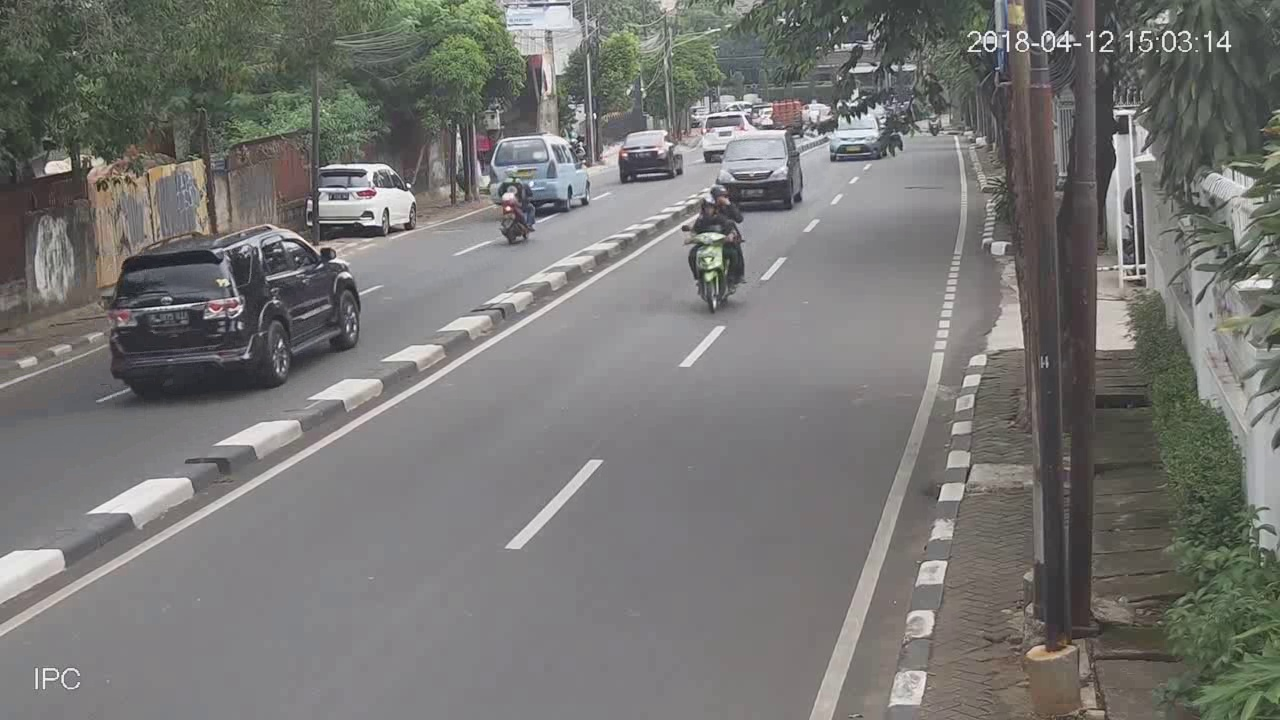car: (102, 226, 363, 393), (306, 160, 421, 239), (489, 133, 589, 210), (718, 129, 806, 214), (619, 128, 683, 184)
motorcycle: (681, 183, 751, 316), (493, 161, 539, 246)
